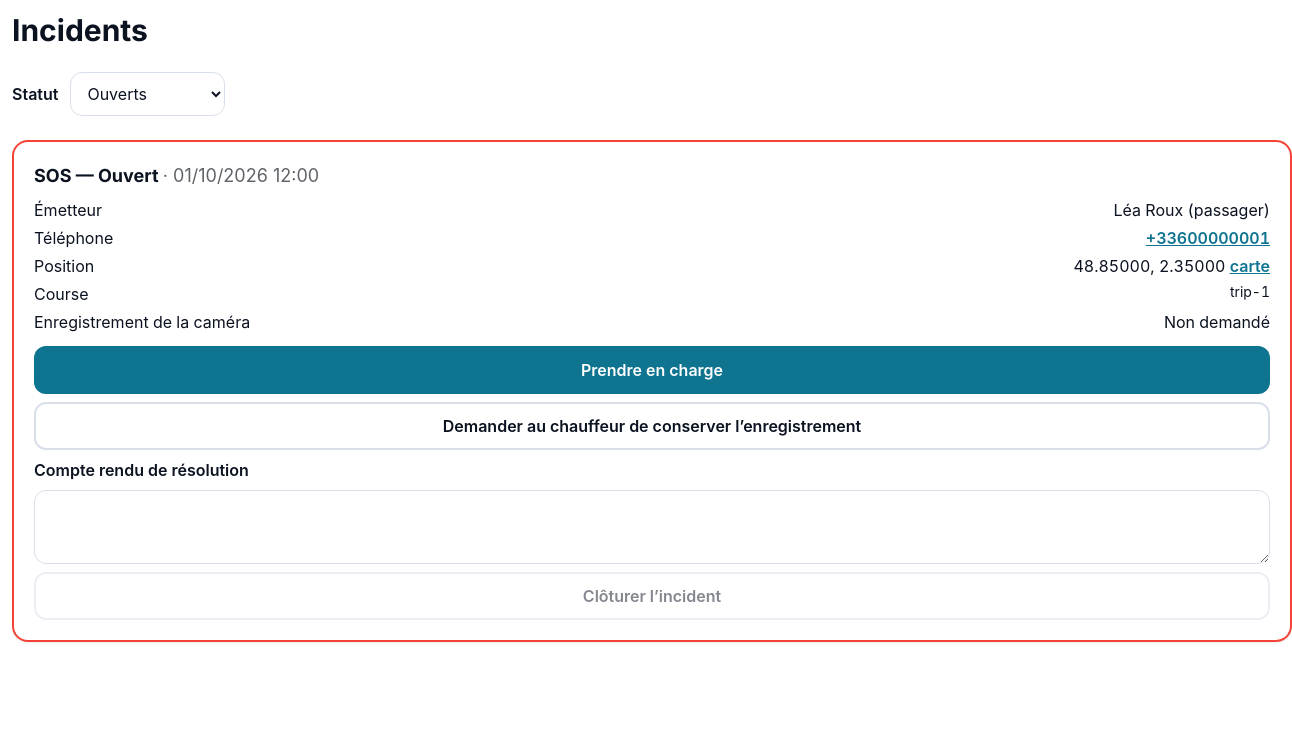
Test: Incidents SOS › caméra embarquée : conservation de l’enregistrement demandée au chauffeur, puis état affiché
Expected: the text "Non demandé" is shown, [1164,310,1270,334]
Click the button "Demander au chauffeur de conserver l’enregistrement".
click(652, 426)  # box [34,402,1270,450]
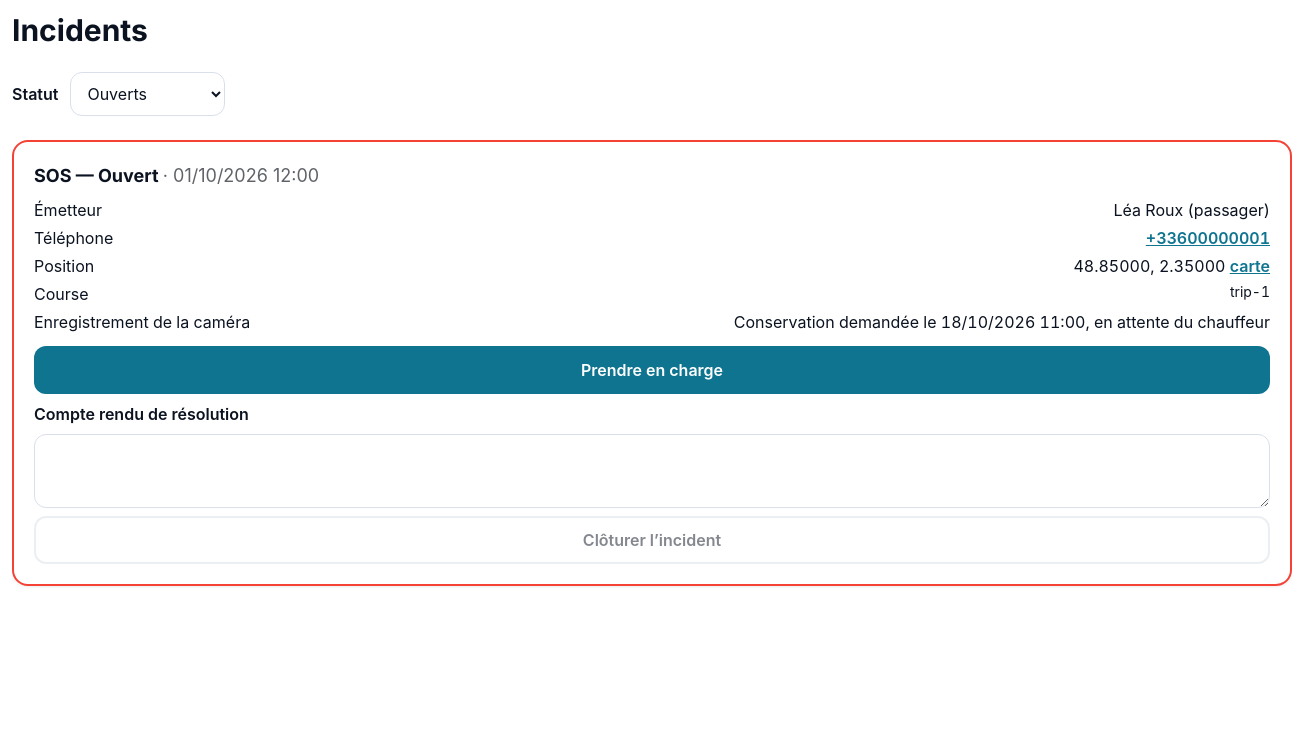
Expected: the text "Conservation demandée le" is shown, [734,312,1270,332]
Expected: the button "Demander au chauffeur de conserver l’enregistrement" is gone
